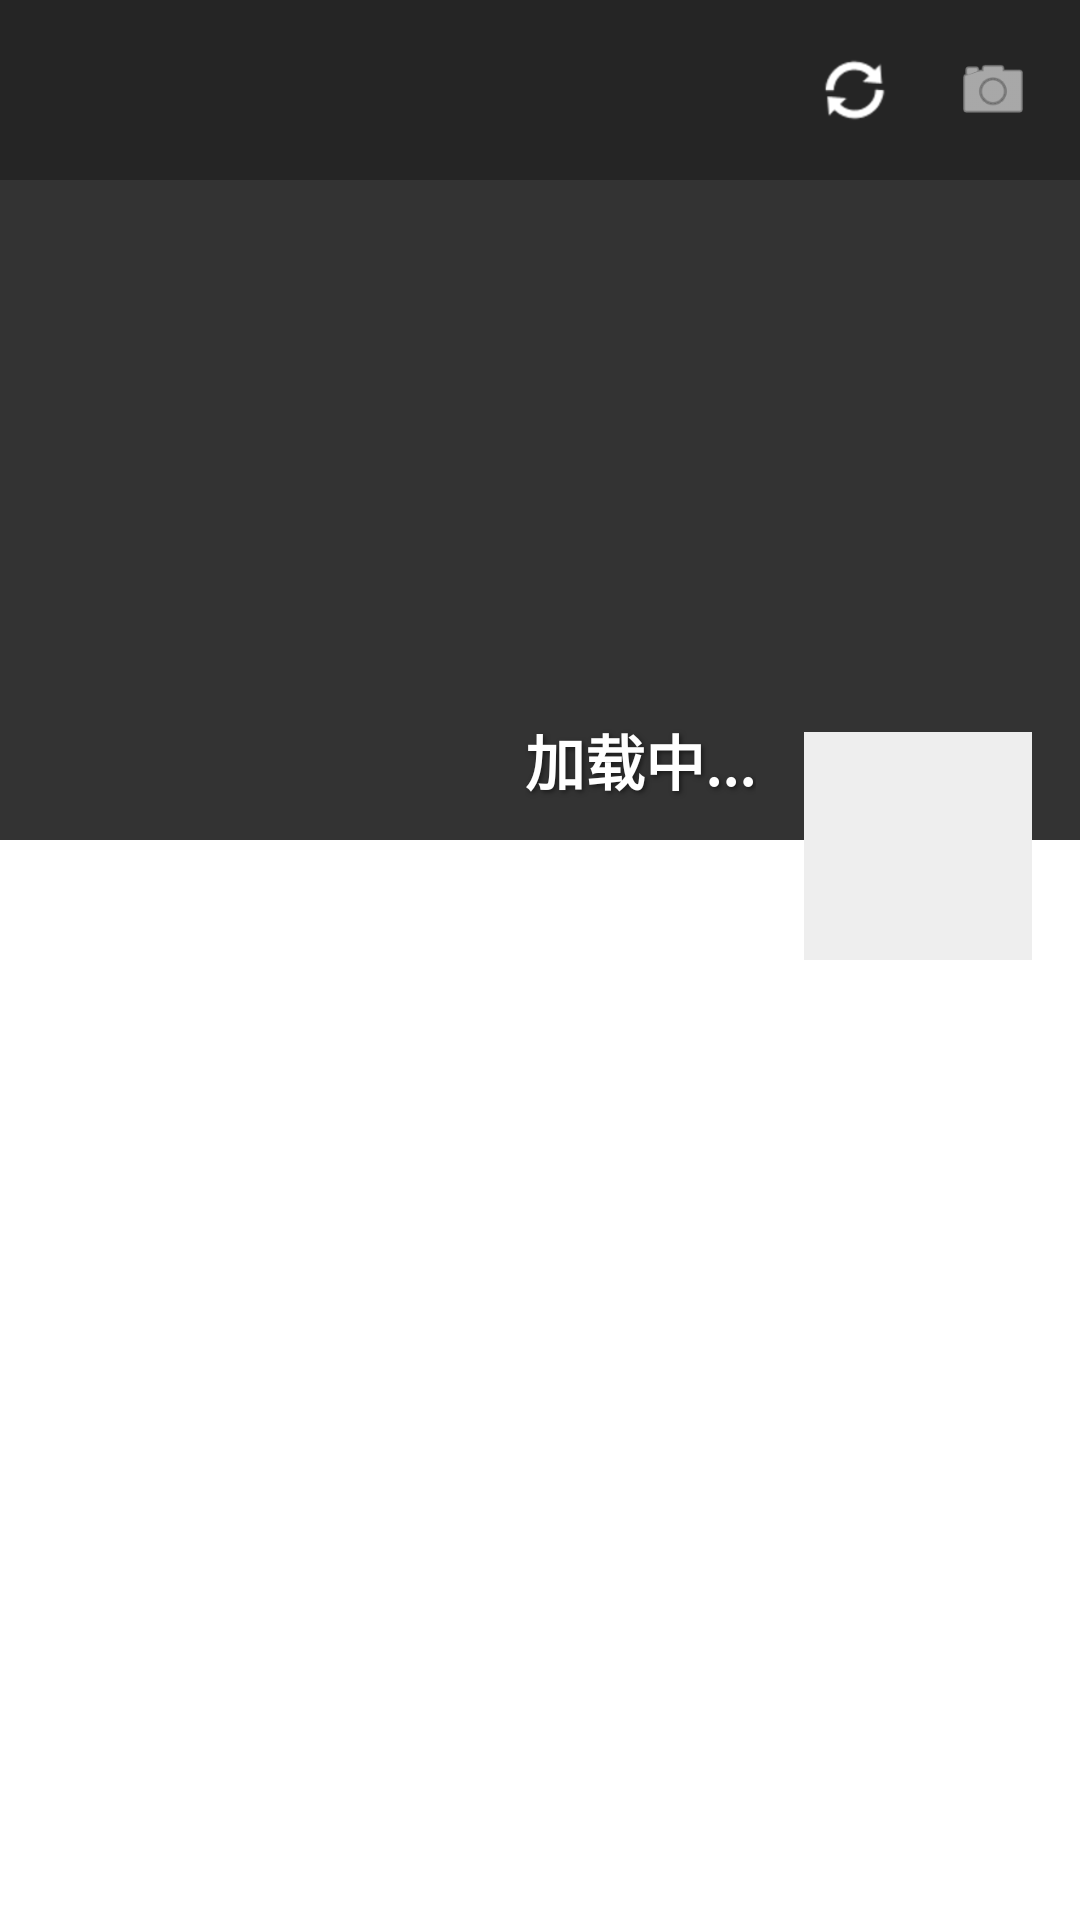

Named icons in this screenshot (1080 x 1920) and their centers, [x,y]:
camera: [993,89]
popup sync: [855,90]
